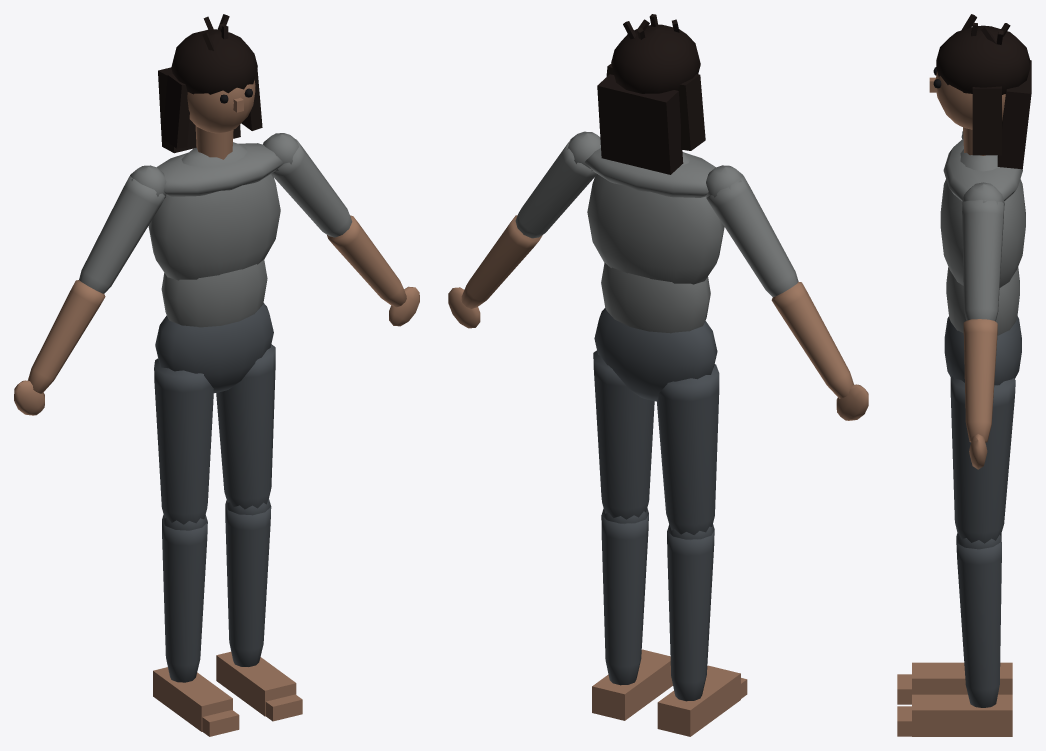
Rendered from Maren_tonight.obj.
The picture shows the model from 3 angles, left to right: view 1: azimuth 30°, elevation 25°; view 2: azimuth 150°, elevation 25°; view 3: azimuth 270°, elevation 25°; orthographic projection. The views are drawn at different scales.
Parts seen in each view (by area): view 1: Maren_tonight; view 2: Maren_tonight; view 3: Maren_tonight.
Part boxes in pixels (<box>): Maren_tonight: <box>14,14,419,736</box>; Maren_tonight: <box>448,14,868,736</box>; Maren_tonight: <box>897,14,1031,736</box>.
Size of the model in its own units: 1.11 by 1.75 by 0.3075.
